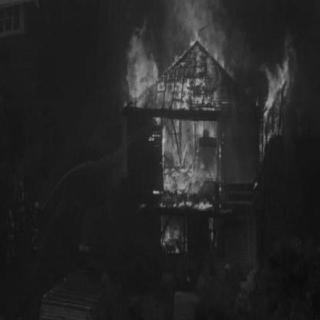Fire: (122, 2, 300, 255)
